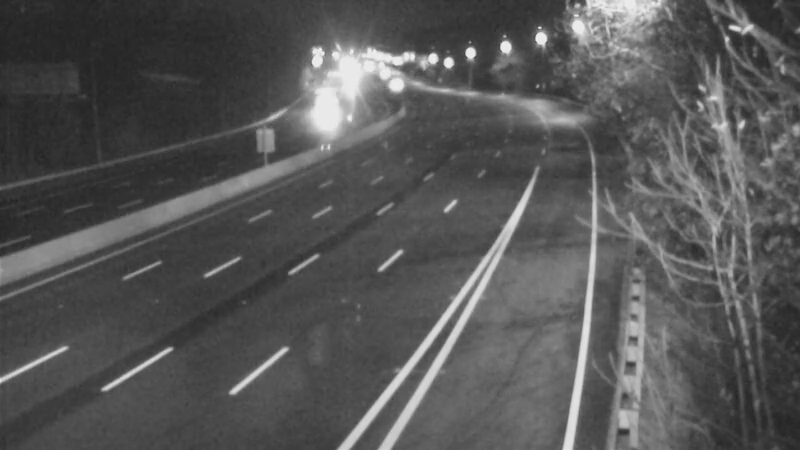vehicle: (369, 61, 419, 111), (296, 83, 346, 133)
